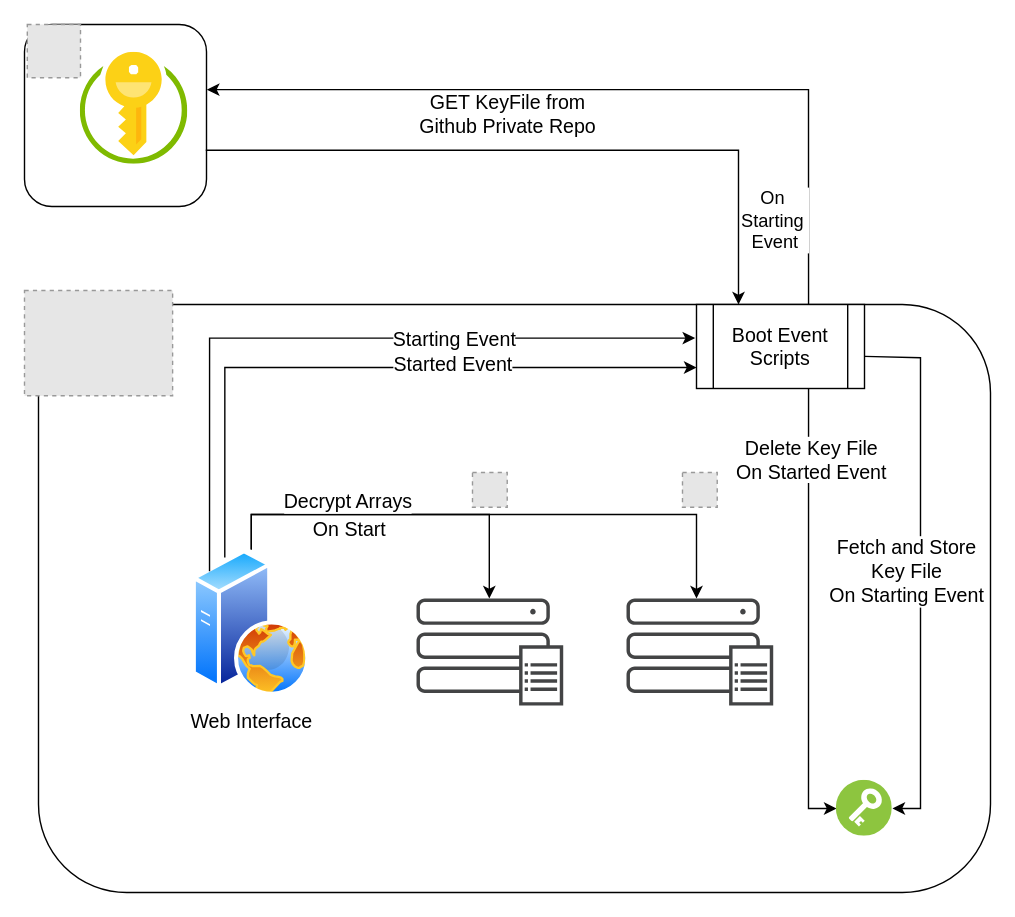
Some shapes in this 1015 by 917 pixel diagram are drawn without their labels. Grey dashed boxes stand in for pictures. The shapes that lost their labels are listed below. From the top down, each one's box as (x1, y1, x2, y2) in pixels, then its label:
(80, 52, 187, 164): KeyFile
(836, 780, 892, 836): /root/keyfile
